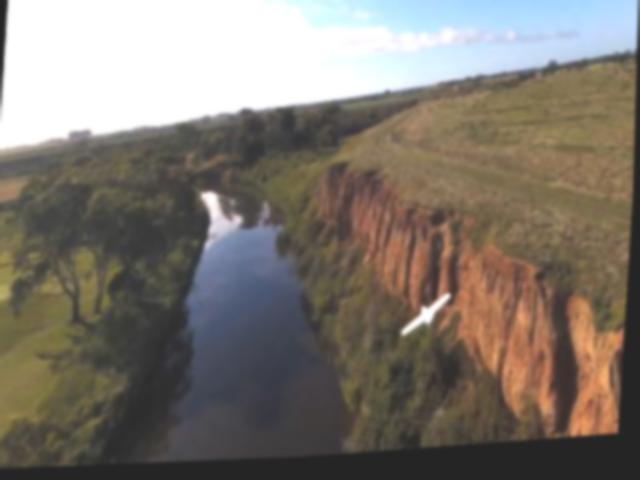uav: (404, 296, 455, 347)
